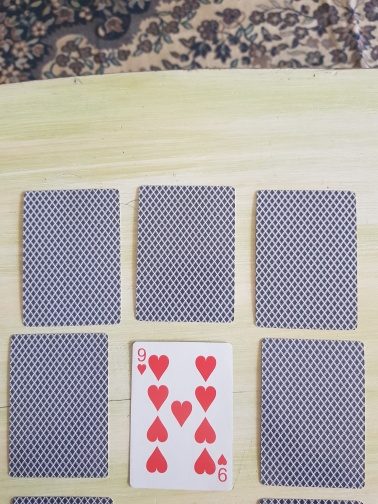nine: (128, 341, 235, 492)
